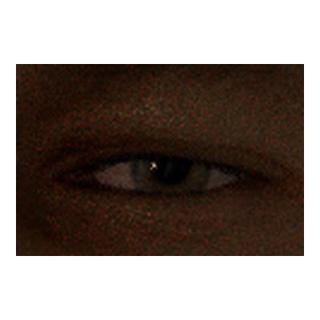pupil: (151, 146, 189, 184)
